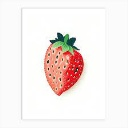strawberry: (44, 32, 85, 96)
